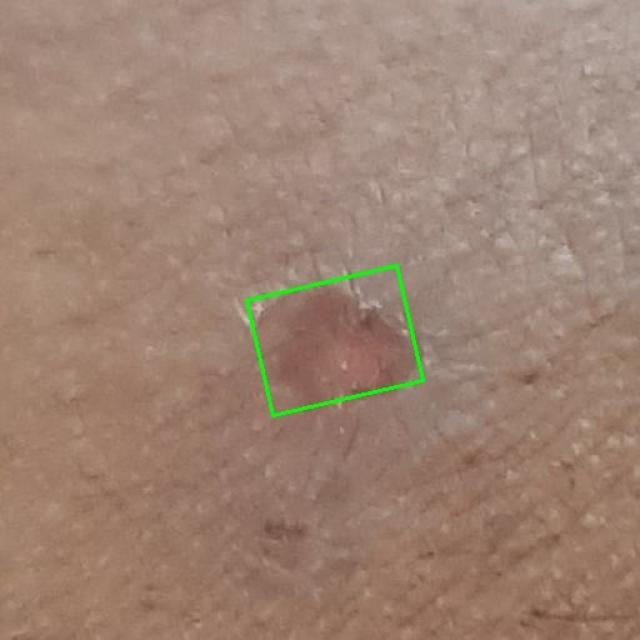Atopic Dermatitis: (247, 266, 424, 416)
